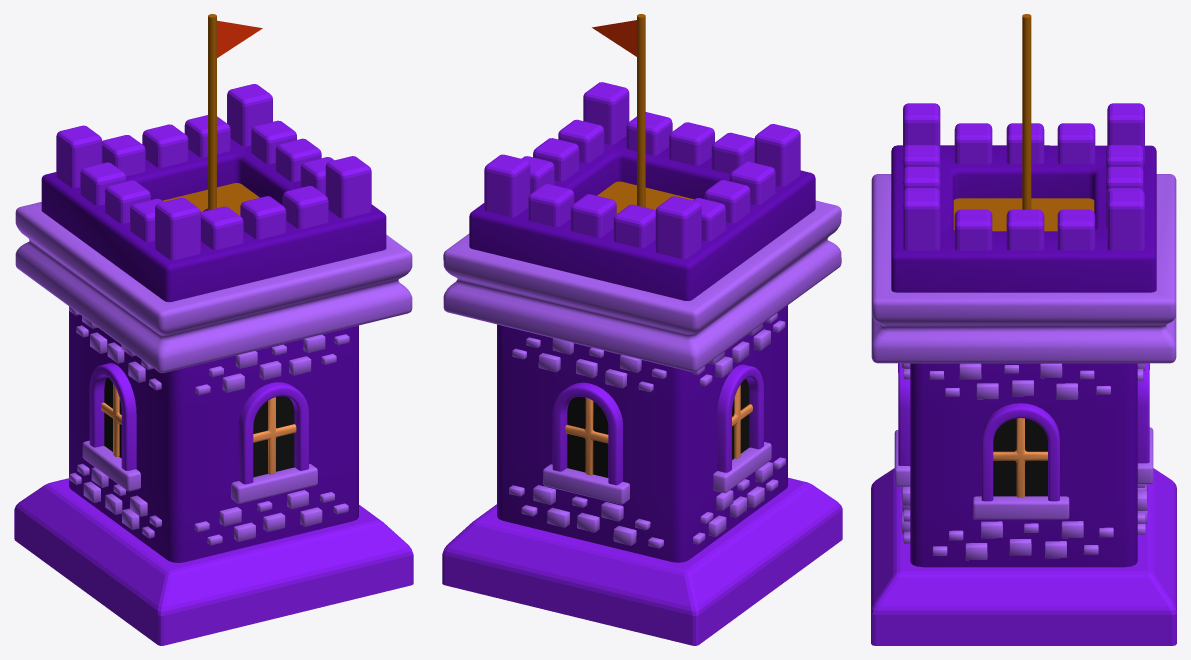
The model's file is tower 3.fbx.
3 renders of one model, left to right at view 1: azimuth 30°, elevation 25°; view 2: azimuth 150°, elevation 25°; view 3: azimuth 270°, elevation 25°, orthographic. The views are drawn at different scales.
Parts seen in each view (by area): view 1: box.783; view 2: box.783; view 3: box.783.
Part boxes in pixels (x1=…): box.783: x1=14, y1=14, x2=413, y2=645; box.783: x1=442, y1=14, x2=842, y2=645; box.783: x1=871, y1=14, x2=1176, y2=645.
Size of the model in its own units: 252 by 515 by 252.
1 material, 1 textured.
